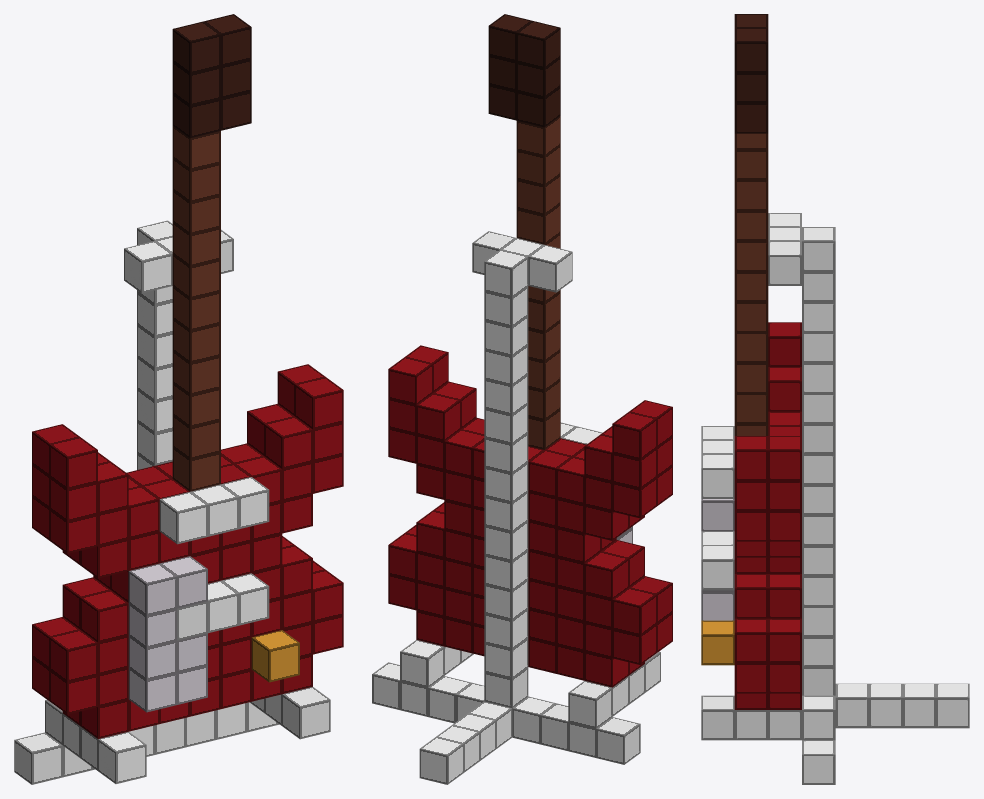
File: guitar_on_stand.glb
3 renders of one model, left to right at view 1: azimuth 30°, elevation 25°; view 2: azimuth 150°, elevation 25°; view 3: azimuth 270°, elevation 25°, orthographic. The views are drawn at different scales.
Visible parts, largest first — view 1: guitar_on_stand; view 2: guitar_on_stand; view 3: guitar_on_stand.
Boxes of the visible parts, x1,y1,x2,y2 form: guitar_on_stand: (14, 14, 343, 784); guitar_on_stand: (372, 14, 672, 784); guitar_on_stand: (701, 14, 969, 784).
Bounding box in the file's own units: 0.45 × 1.15 × 0.4.
Materials: 7 (7 with a texture image).
